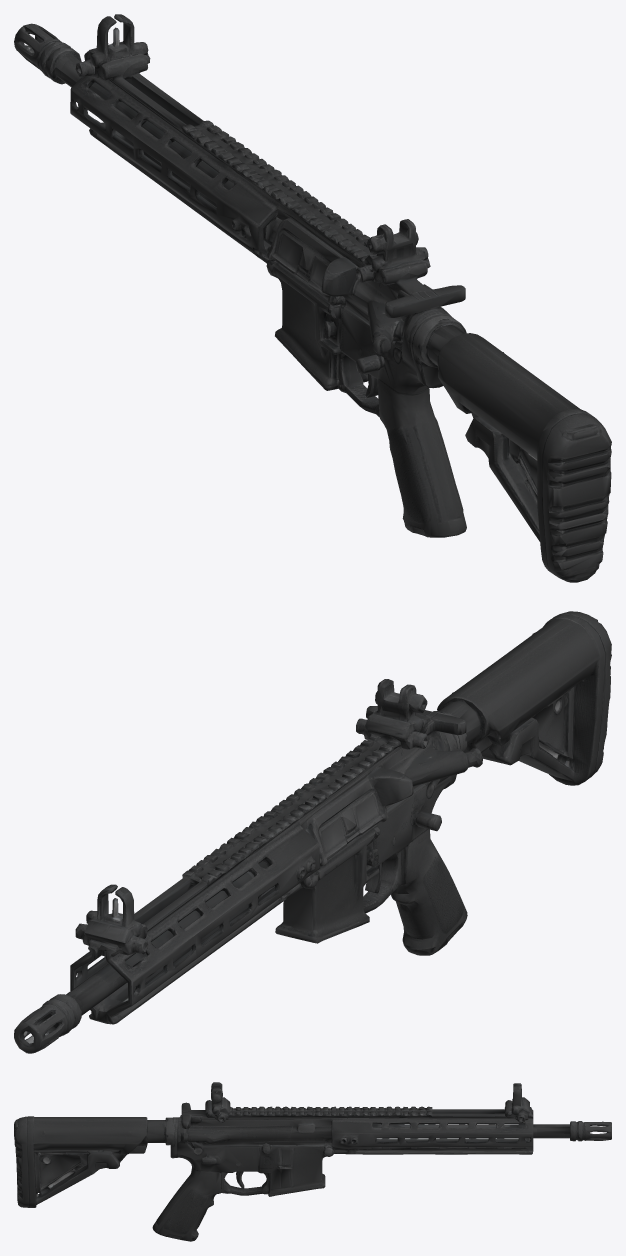
Rendered from HK416_Body_PBR.fbx.
The picture shows the model from 3 angles, top to bottom: view 1: azimuth 30°, elevation 25°; view 2: azimuth 150°, elevation 25°; view 3: azimuth 270°, elevation 25°; orthographic projection. The views are drawn at different scales.
Parts seen in each view (by area): view 1: HK416_Body_PBR; view 2: HK416_Body_PBR; view 3: HK416_Body_PBR.
Boxes of the visible parts, x1=… form: HK416_Body_PBR: x1=14, y1=14, x2=611, y2=582; HK416_Body_PBR: x1=14, y1=611, x2=611, y2=1053; HK416_Body_PBR: x1=14, y1=1082, x2=611, y2=1241.
Size of the model in its own units: 55.41 by 162 by 571.
1 material, 1 textured.
